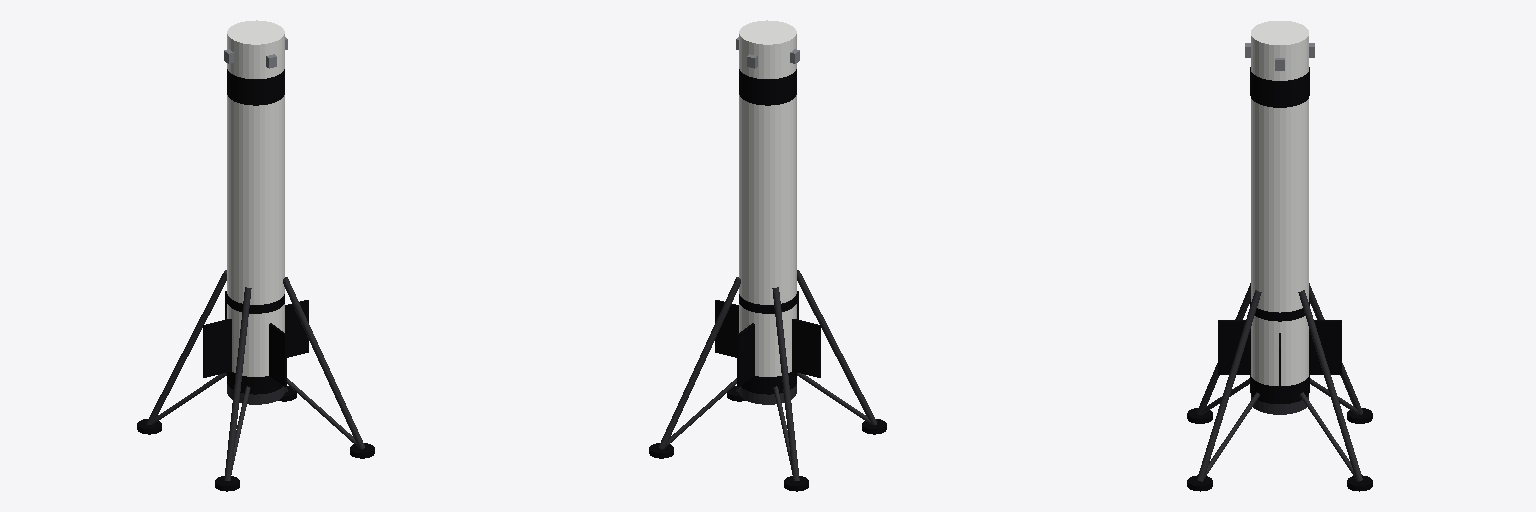
URDF robot description (rocket):
<?xml version="1.0"?>

<robot name="rocket">
  <link name="body">
    <inertial>
      <origin xyz="0 0 1.8"/>
      <mass value="600"/>
      <inertia ixx="820" iyy="820" izz="28" ixy="0" ixz="0" iyz="0"/>
    </inertial>
    <visual>
      <origin xyz="0 0 2.135" rpy="0 0 0"/>
      <geometry><cylinder radius="0.3" length="4.03"/></geometry>
      <material name="white"><color rgba="0.93 0.93 0.92 1"/></material>
    </visual>
    <visual>
      <origin xyz="0 0 0.06" rpy="0 0 0"/>
      <geometry><cylinder radius="0.3" length="0.12"/></geometry>
      <material name="bay"><color rgba="0.22 0.22 0.24 1"/></material>
    </visual>
    <visual>
      <origin xyz="0 0 0.22" rpy="0 0 0"/>
      <geometry><cylinder radius="0.303" length="0.200"/></geometry>
      <material name="band"><color rgba="0.07 0.07 0.08 1"/></material>
    </visual>
    <visual>
      <origin xyz="0 0 1.1" rpy="0 0 0"/>
      <geometry><cylinder radius="0.303" length="0.100"/></geometry>
      <material name="band"><color rgba="0.07 0.07 0.08 1"/></material>
    </visual>
    <visual>
      <origin xyz="0 0 3.6" rpy="0 0 0"/>
      <geometry><cylinder radius="0.303" length="0.300"/></geometry>
      <material name="band"><color rgba="0.07 0.07 0.08 1"/></material>
    </visual>
    <visual>
      <origin xyz="0 0 4.15" rpy="0 0 0"/>
      <geometry><mesh filename="meshes/nose.obj"/></geometry>
      <material name="white"><color rgba="0.93 0.93 0.92 1"/></material>
    </visual>
    <visual>
      <origin xyz="0.46 0 0.62" rpy="0 0 0"/>
      <geometry><box size="0.34 0.025 0.6"/></geometry>
      <material name="fin"><color rgba="0.07 0.07 0.08 1"/></material>
    </visual>
    <visual>
      <origin xyz="2.817e-17 0.46 0.62" rpy="0 0 1.571"/>
      <geometry><box size="0.34 0.025 0.6"/></geometry>
      <material name="fin"><color rgba="0.07 0.07 0.08 1"/></material>
    </visual>
    <visual>
      <origin xyz="-0.46 5.633e-17 0.62" rpy="0 0 3.142"/>
      <geometry><box size="0.34 0.025 0.6"/></geometry>
      <material name="fin"><color rgba="0.07 0.07 0.08 1"/></material>
    </visual>
    <visual>
      <origin xyz="-8.45e-17 -0.46 0.62" rpy="0 0 4.712"/>
      <geometry><box size="0.34 0.025 0.6"/></geometry>
      <material name="fin"><color rgba="0.07 0.07 0.08 1"/></material>
    </visual>
    <visual>
      <origin xyz="0.5162 0.5162 0.425" rpy="0 2.715 0.7854"/>
      <geometry><cylinder radius="0.035" length="2.0318"/></geometry>
      <material name="leg"><color rgba="0.22 0.22 0.24 1"/></material>
    </visual>
    <visual>
      <origin xyz="0.5162 0.5162 -0.15" rpy="0 2.266 0.7854"/>
      <geometry><cylinder radius="0.025" length="1.0934"/></geometry>
      <material name="leg"><color rgba="0.22 0.22 0.24 1"/></material>
    </visual>
    <visual>
      <origin xyz="0.8132 0.8132 -0.53" rpy="0 0 0"/>
      <geometry><cylinder radius="0.13" length="0.06"/></geometry>
      <material name="pad"><color rgba="0.07 0.07 0.08 1"/></material>
    </visual>
    <collision>
      <origin xyz="0.8132 0.8132 -0.53" rpy="0 0 0"/>
      <geometry><cylinder radius="0.13" length="0.06"/></geometry>
    </collision>
    <visual>
      <origin xyz="-0.5162 0.5162 0.425" rpy="0 2.715 2.356"/>
      <geometry><cylinder radius="0.035" length="2.0318"/></geometry>
      <material name="leg"><color rgba="0.22 0.22 0.24 1"/></material>
    </visual>
    <visual>
      <origin xyz="-0.5162 0.5162 -0.15" rpy="0 2.266 2.356"/>
      <geometry><cylinder radius="0.025" length="1.0934"/></geometry>
      <material name="leg"><color rgba="0.22 0.22 0.24 1"/></material>
    </visual>
    <visual>
      <origin xyz="-0.8132 0.8132 -0.53" rpy="0 0 0"/>
      <geometry><cylinder radius="0.13" length="0.06"/></geometry>
      <material name="pad"><color rgba="0.07 0.07 0.08 1"/></material>
    </visual>
    <collision>
      <origin xyz="-0.8132 0.8132 -0.53" rpy="0 0 0"/>
      <geometry><cylinder radius="0.13" length="0.06"/></geometry>
    </collision>
    <visual>
      <origin xyz="-0.5162 -0.5162 0.425" rpy="0 2.715 3.927"/>
      <geometry><cylinder radius="0.035" length="2.0318"/></geometry>
      <material name="leg"><color rgba="0.22 0.22 0.24 1"/></material>
    </visual>
    <visual>
      <origin xyz="-0.5162 -0.5162 -0.15" rpy="0 2.266 3.927"/>
      <geometry><cylinder radius="0.025" length="1.0934"/></geometry>
      <material name="leg"><color rgba="0.22 0.22 0.24 1"/></material>
    </visual>
    <visual>
      <origin xyz="-0.8132 -0.8132 -0.53" rpy="0 0 0"/>
      <geometry><cylinder radius="0.13" length="0.06"/></geometry>
      <material name="pad"><color rgba="0.07 0.07 0.08 1"/></material>
    </visual>
    <collision>
      <origin xyz="-0.8132 -0.8132 -0.53" rpy="0 0 0"/>
      <geometry><cylinder radius="0.13" length="0.06"/></geometry>
    </collision>
    <visual>
      <origin xyz="0.5162 -0.5162 0.425" rpy="0 2.715 5.498"/>
      <geometry><cylinder radius="0.035" length="2.0318"/></geometry>
      <material name="leg"><color rgba="0.22 0.22 0.24 1"/></material>
    </visual>
    <visual>
      <origin xyz="0.5162 -0.5162 -0.15" rpy="0 2.266 5.498"/>
      <geometry><cylinder radius="0.025" length="1.0934"/></geometry>
      <material name="leg"><color rgba="0.22 0.22 0.24 1"/></material>
    </visual>
    <visual>
      <origin xyz="0.8132 -0.8132 -0.53" rpy="0 0 0"/>
      <geometry><cylinder radius="0.13" length="0.06"/></geometry>
      <material name="pad"><color rgba="0.07 0.07 0.08 1"/></material>
    </visual>
    <collision>
      <origin xyz="0.8132 -0.8132 -0.53" rpy="0 0 0"/>
      <geometry><cylinder radius="0.13" length="0.06"/></geometry>
    </collision>
    <collision>
      <origin xyz="0 0 2.075" rpy="0 0 0"/>
      <geometry><cylinder radius="0.3" length="4.15"/></geometry>
    </collision>
    <collision>
      <origin xyz="0 0 4.25" rpy="0 0 0"/>
      <geometry><sphere radius="0.3"/></geometry>
    </collision>
    <visual>
      <origin xyz="0.32 0 3.95" rpy="0 0 0"/>
      <geometry><box size="0.08 0.1 0.12"/></geometry>
      <material name="pod"><color rgba="0.55 0.56 0.58 1"/></material>
    </visual>
    <visual>
      <origin xyz="1.959e-17 0.32 3.95" rpy="0 0 1.571"/>
      <geometry><box size="0.08 0.1 0.12"/></geometry>
      <material name="pod"><color rgba="0.55 0.56 0.58 1"/></material>
    </visual>
    <visual>
      <origin xyz="-0.32 3.919e-17 3.95" rpy="0 0 3.142"/>
      <geometry><box size="0.08 0.1 0.12"/></geometry>
      <material name="pod"><color rgba="0.55 0.56 0.58 1"/></material>
    </visual>
    <visual>
      <origin xyz="-5.878e-17 -0.32 3.95" rpy="0 0 4.712"/>
      <geometry><box size="0.08 0.1 0.12"/></geometry>
      <material name="pod"><color rgba="0.55 0.56 0.58 1"/></material>
    </visual>
  </link>
  <joint name="gimbal_x" type="revolute">
    <parent link="body"/>
    <child link="gimbal_ring"/>
    <origin xyz="0 0 0.12"/>
    <axis xyz="1 0 0"/>
    <limit lower="-0.15" upper="0.15" effort="20000" velocity="3"/>
  </joint>
  <link name="gimbal_ring">
    <inertial>
      <mass value="2"/>
      <inertia ixx="0.02" iyy="0.02" izz="0.04" ixy="0" ixz="0" iyz="0"/>
    </inertial>
  </link>
  <joint name="gimbal_y" type="revolute">
    <parent link="gimbal_ring"/>
    <child link="engine"/>
    <axis xyz="0 1 0"/>
    <limit lower="-0.15" upper="0.15" effort="20000" velocity="3"/>
  </joint>
  <link name="engine">
    <inertial>
      <origin xyz="0 0 -0.12"/>
      <mass value="25"/>
      <inertia ixx="0.6" iyy="0.6" izz="0.25" ixy="0" ixz="0" iyz="0"/>
    </inertial>
    <visual>
      <origin xyz="0 0 0.08"/>
      <geometry><cylinder radius="0.1" length="0.16"/></geometry>
      <material name="chamber"><color rgba="0.22 0.22 0.24 1"/></material>
    </visual>
    <visual>
      <geometry><mesh filename="meshes/nozzle.obj"/></geometry>
    </visual>
  </link>
  <thruster name="main_engine" link="engine" torque_coefficient="0.002">
    <origin xyz="0 0 0"/>
    <axis xyz="0 0 1"/>
    <limit lower="0" upper="12000"/>
  </thruster>
  <thruster name="rcs_roll_left_0" link="body">
    <origin xyz="0.36 0 3.95"/>
    <axis xyz="0 1 0"/>
    <limit lower="0" upper="60"/>
  </thruster>
  <thruster name="rcs_roll_right_0" link="body">
    <origin xyz="0 0.36 3.95"/>
    <axis xyz="1 0 0"/>
    <limit lower="0" upper="60"/>
  </thruster>
  <thruster name="rcs_roll_left_1" link="body">
    <origin xyz="-0.36 0 3.95"/>
    <axis xyz="0 -1 0"/>
    <limit lower="0" upper="60"/>
  </thruster>
  <thruster name="rcs_roll_right_1" link="body">
    <origin xyz="0 -0.36 3.95"/>
    <axis xyz="-1 0 0"/>
    <limit lower="0" upper="60"/>
  </thruster>
</robot>

--- Facts derived from the render (not from the file) ---
Views: 3 orthographic renders of the robot side by side, from view 1: azimuth 30°, elevation 25°; view 2: azimuth 150°, elevation 25°; view 3: azimuth 270°, elevation 25°.
Robot: rocket — 3 links, 2 joints (2 revolute); root link body; default pose: every joint at zero.
Visible links, largest first — view 1: body; view 2: body; view 3: body.
Boxes of the visible links, bbox=[...] form: body: bbox=[137, 20, 374, 491]; body: bbox=[649, 20, 886, 491]; body: bbox=[1187, 21, 1372, 491].
Bounding box of the posed robot: 1.89 × 1.89 × 4.71 m (x, y, z).
0 mesh visuals loaded from 2 distinct referenced files (none loaded); not drawn: 2 (reference not matched to a file when rendering).
